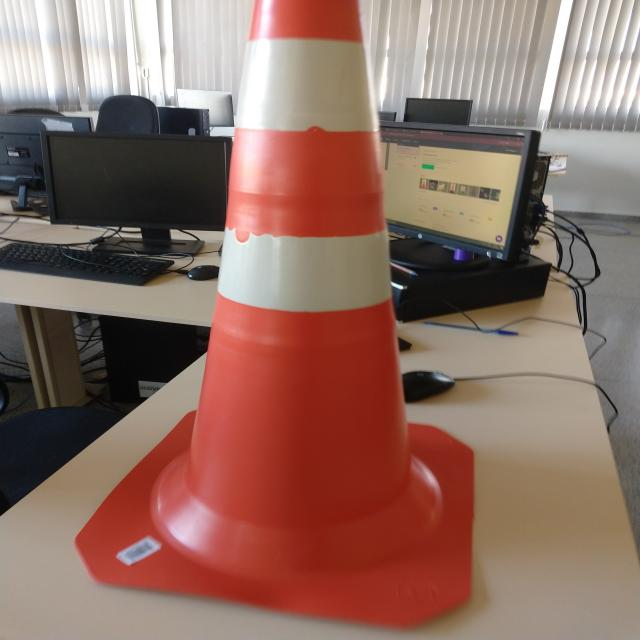cone: (86, 5, 547, 575)
